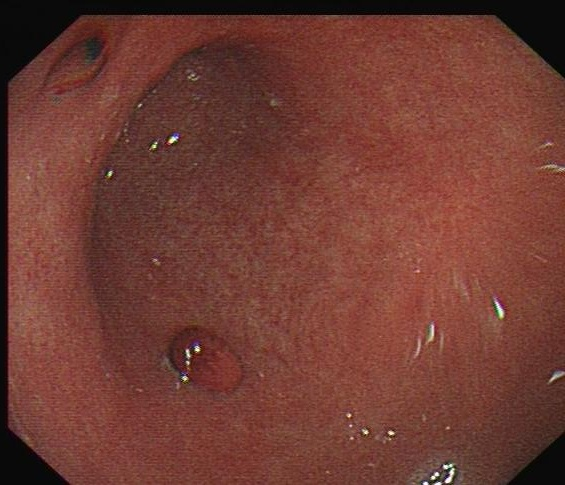Polyp: (161, 324, 249, 403)
